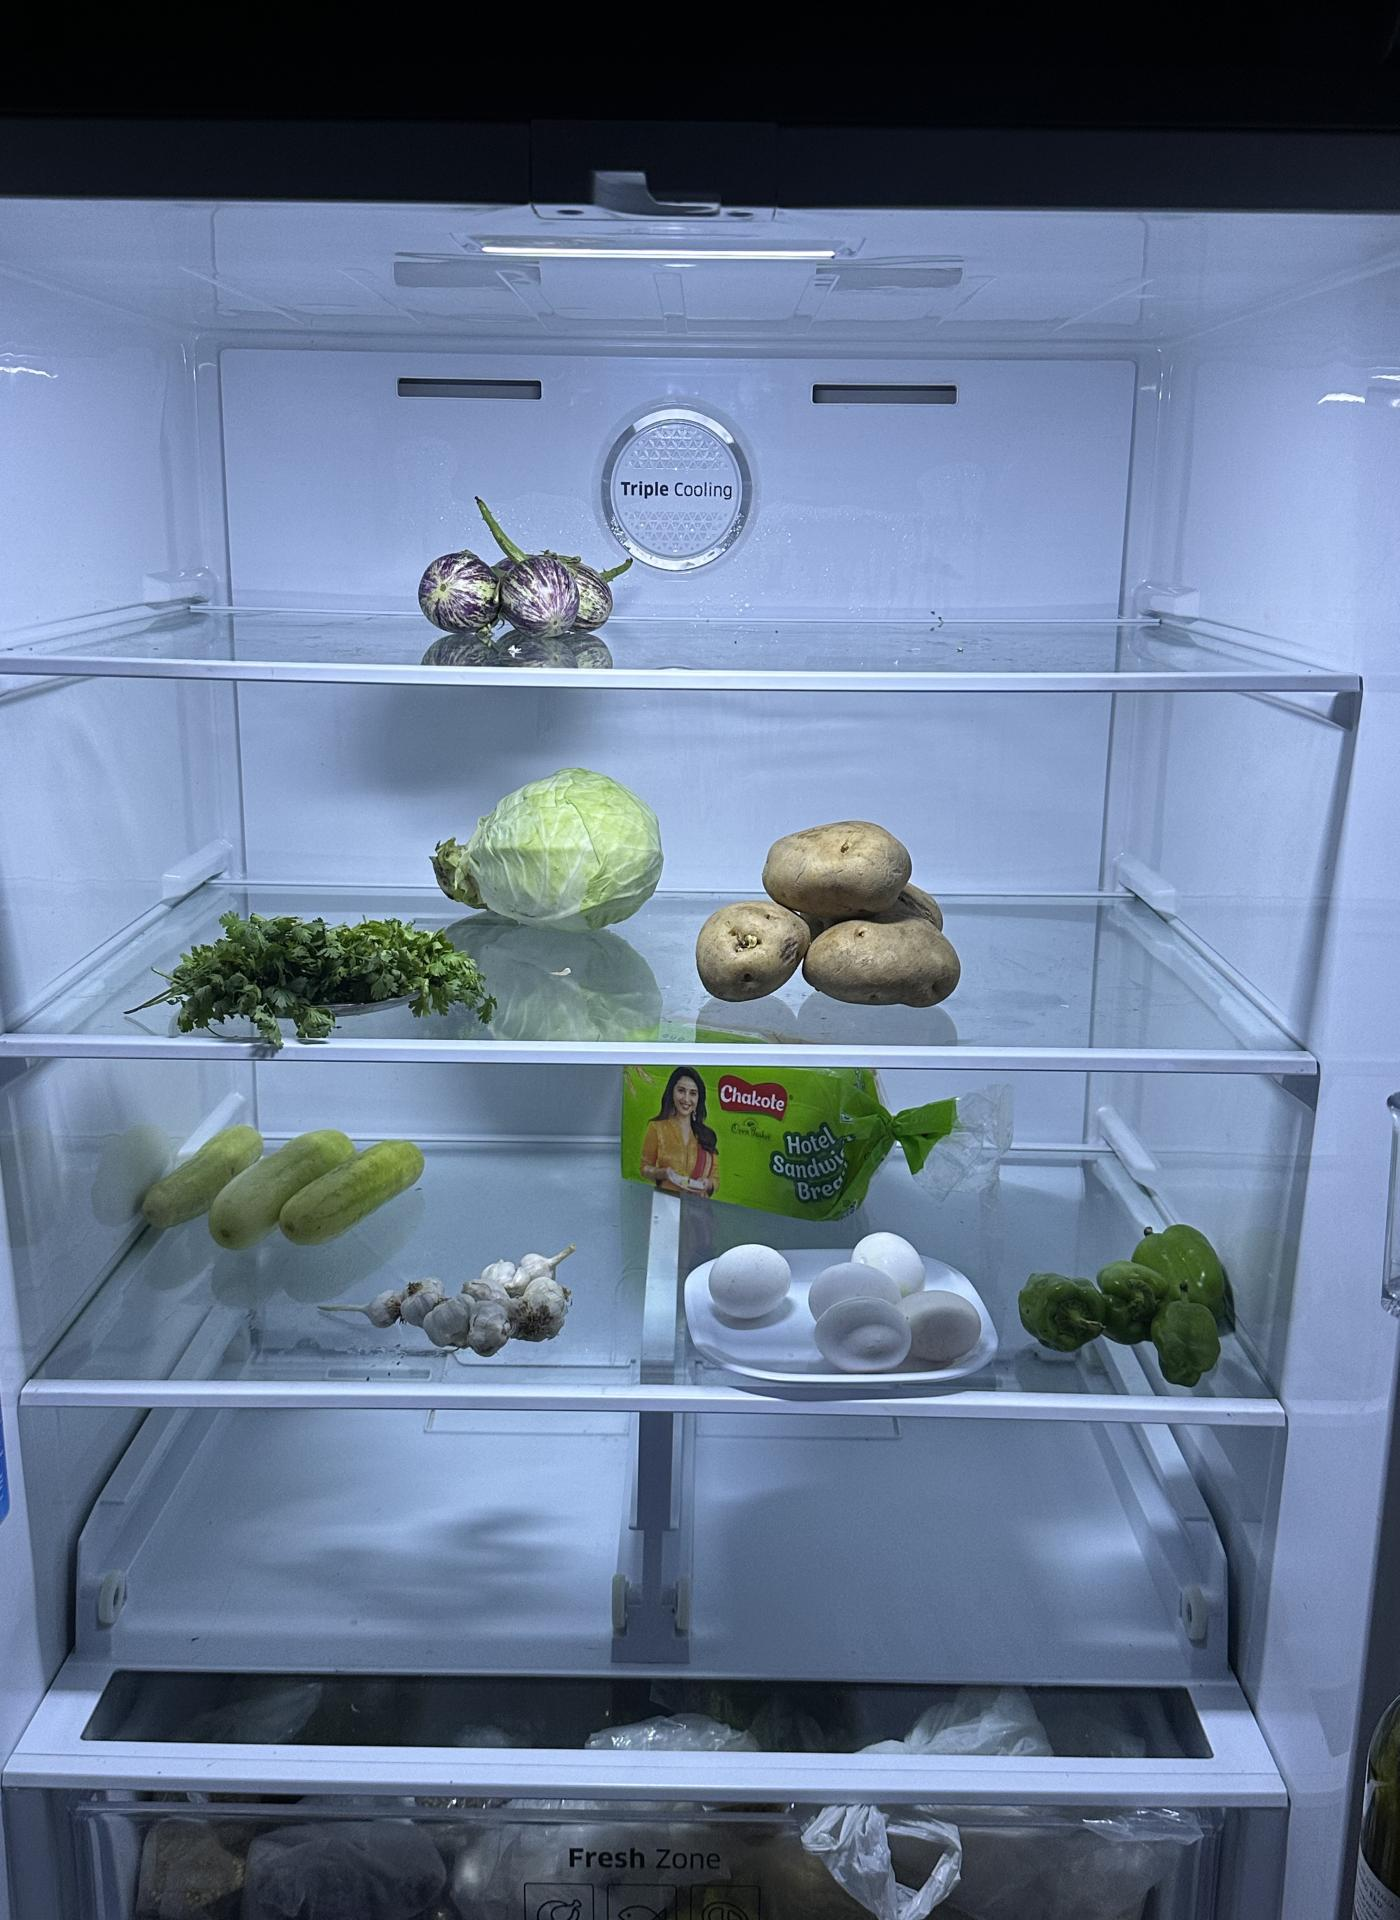bread: (626, 1055, 901, 1215)
cabbage: (438, 769, 668, 936)
capsicum: (1021, 1213, 1243, 1386)
coriander: (167, 903, 482, 1032)
cucumber: (128, 1128, 432, 1257)
egg: (810, 1233, 994, 1377), (414, 540, 622, 644), (710, 1236, 796, 1328)
garlic: (364, 1255, 577, 1362)
potato: (692, 812, 960, 1003)
